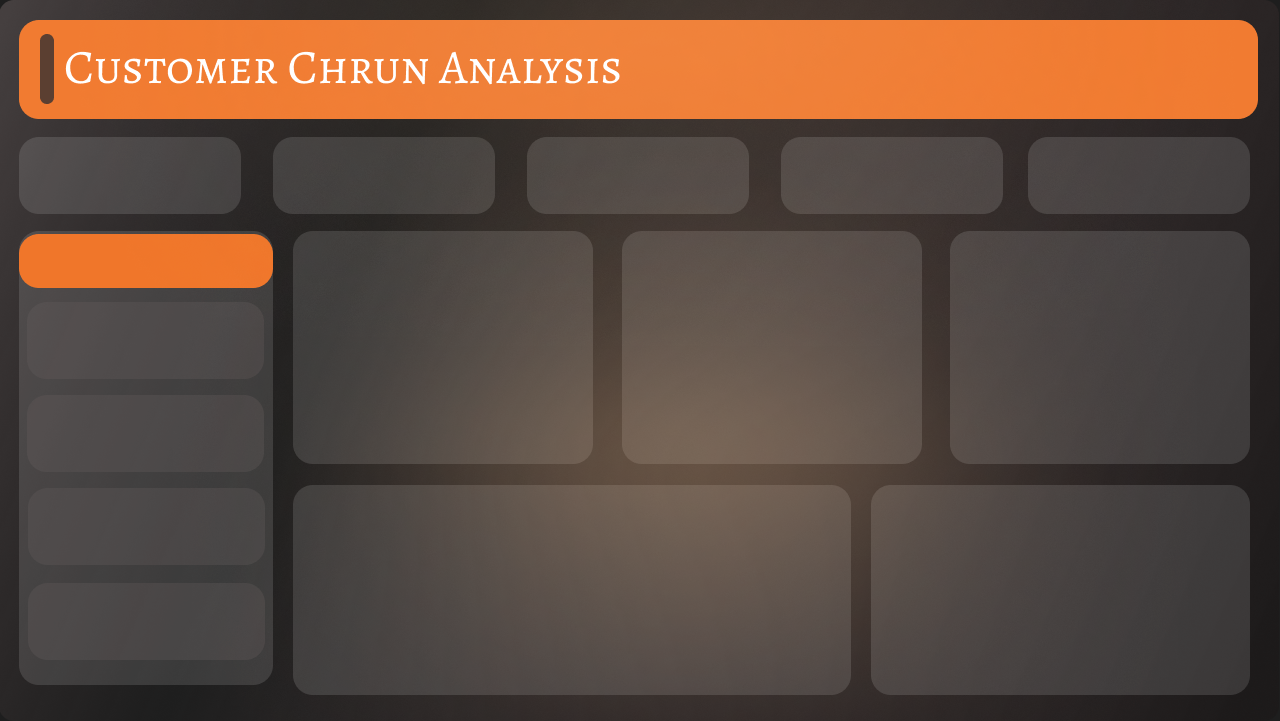

This screenshot's page, from the dashboard's own definition file:
{"tool":"powerbi","page":{"name":"Executive Overview","canvas":[1280,720],"ordinal":0},"visuals":[{"type":"card","fields":{"Values":["_measure.Total Customers"]},"box":[13.7,131.7,227.8,83.7],"z":0},{"type":"card","fields":{"Values":["_measure.Churned Customers"]},"box":[272.2,132.3,223.5,83.6],"z":1000},{"type":"card","fields":{"Values":["_measure.Churn Rate"]},"box":[518.5,132.3,241.8,83.6],"z":2000},{"type":"card","fields":{"Values":["_measure.Total Revenue"]},"box":[770.9,132.3,241.8,83.6],"z":3000},{"type":"card","fields":{"Values":["_measure.Avg Tenure"]},"box":[1012.7,132.3,241.8,83.6],"z":4000},{"type":"lineStackedColumnComboChart","fields":{"Category":["customer_churn.Contract"],"Y":["_measure.Churn Rate"]},"box":[296.4,234.6,297.8,230.5],"z":5000},{"type":"columnChart","fields":{"Category":["customer_churn.InternetService"],"Y":["_measure.Churn Rate"]},"box":[622,234.2,299,230],"z":6000},{"type":"barChart","title":"Revenue Lost by Contract","fields":{"Category":["customer_churn.Contract"],"Y":["_measure.Revenue Lost (Churned Customers)"]},"box":[958,234.2,285.9,217.4],"z":7000},{"type":"areaChart","fields":{"Category":["customer_churn.tenure"],"Y":["_measure.Churn Rate"]},"box":[296.5,485.1,552,212.9],"z":8000},{"type":"donutChart","fields":{"Y":["CountNonNull(customer_churn.Churn)","_measure.Active Customers"]},"box":[875.8,492.7,368,197.7],"z":9000},{"type":"textbox","box":[30.2,234.6,231.9,46.7],"z":10000},{"type":"slicer","fields":{"Values":["customer_churn.PaymentMethod"]},"box":[30.2,579.1,231.9,76.8],"z":11000},{"type":"slicer","fields":{"Values":["customer_churn.OnlineSecurity"]},"box":[30.2,484.4,231.9,76.8],"z":12000},{"type":"slicer","fields":{"Values":["customer_churn.SeniorCitizen"]},"box":[29.7,389.9,232.9,76],"z":13000},{"type":"slicer","fields":{"Values":["customer_churn.gender"]},"box":[29.7,305.6,232.9,76],"z":14000}]}

Visuals, with their boxes in screenshot pixels (x1, y1, x2, y2), scaled from the page's 1280x720 canvas onto the 1280x721 screenshot:
card - _measure.Total Customers: [14, 132, 242, 216]
card - _measure.Churned Customers: [272, 132, 496, 216]
card - _measure.Churn Rate: [518, 132, 760, 216]
card - _measure.Total Revenue: [771, 132, 1013, 216]
card - _measure.Avg Tenure: [1013, 132, 1254, 216]
lineStackedColumnComboChart - customer_churn.Contract x _measure.Churn Rate: [296, 235, 594, 466]
columnChart - customer_churn.InternetService x _measure.Churn Rate: [622, 235, 921, 465]
"Revenue Lost by Contract" barChart: [958, 235, 1244, 452]
areaChart - customer_churn.tenure x _measure.Churn Rate: [296, 486, 848, 699]
donutChart - CountNonNull(customer_churn.Churn) x _measure.Active Customers: [876, 493, 1244, 691]
textbox: [30, 235, 262, 282]
slicer - customer_churn.PaymentMethod: [30, 580, 262, 657]
slicer - customer_churn.OnlineSecurity: [30, 485, 262, 562]
slicer - customer_churn.SeniorCitizen: [30, 390, 263, 467]
slicer - customer_churn.gender: [30, 306, 263, 382]
